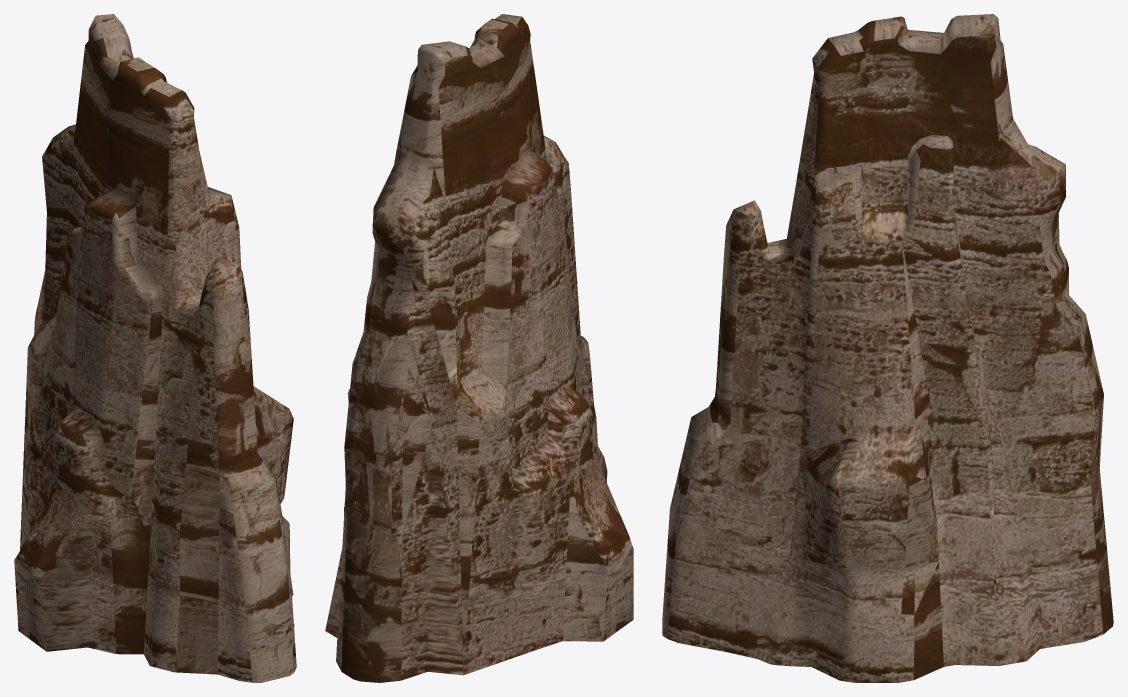
Rendered from rock_pillar_large02.dae.
The picture shows the model from 3 angles, left to right: view 1: azimuth 30°, elevation 25°; view 2: azimuth 150°, elevation 25°; view 3: azimuth 270°, elevation 25°; orthographic projection. The views are drawn at different scales.
Visible parts, largest first — view 1: Cube; view 2: Cube; view 3: Cube.
Boxes of the visible parts, x1,y1,x2,y2 form: Cube: [14, 14, 296, 682]; Cube: [325, 14, 633, 682]; Cube: [662, 14, 1113, 682].
Bounding box in the file's own units: 17.28 × 36.48 × 24.86.
